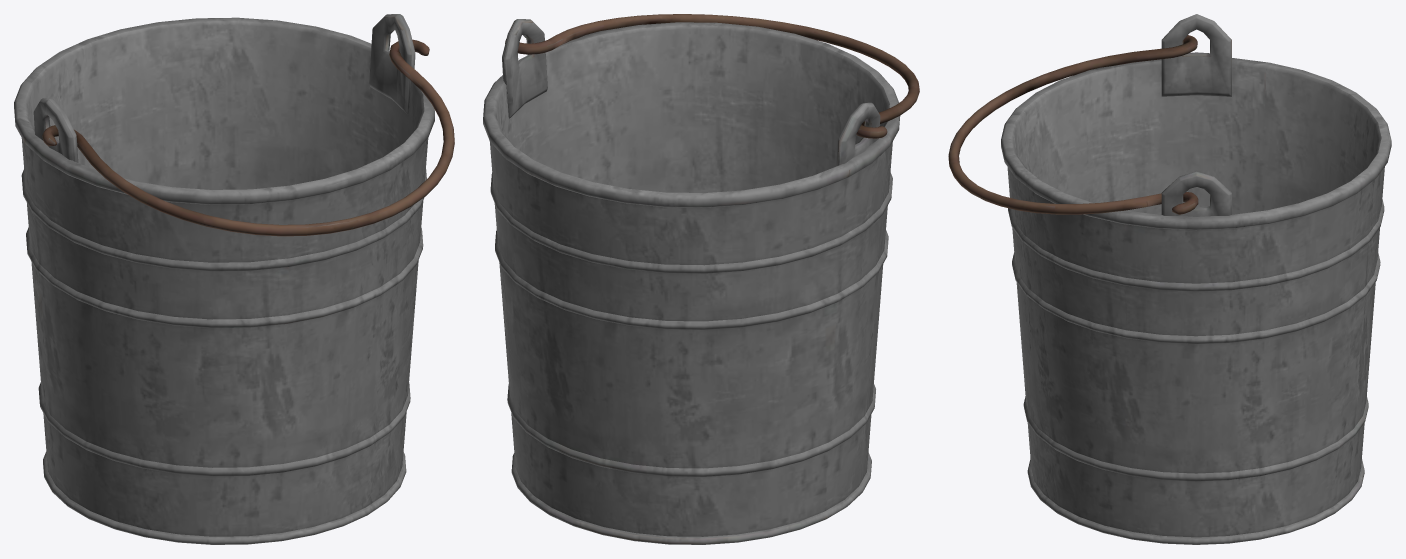
File: bucket_stylized.glb
3 renders of one model, left to right at view 1: azimuth 30°, elevation 25°; view 2: azimuth 150°, elevation 25°; view 3: azimuth 270°, elevation 25°, orthographic. The views are drawn at different scales.
Parts seen in each view (by area): view 1: Cylinder.017; view 2: Cylinder.017; view 3: Cylinder.017.
Boxes of the visible parts, x1,y1,x2,y2 form: Cylinder.017: (14, 14, 454, 544); Cylinder.017: (483, 14, 919, 544); Cylinder.017: (948, 14, 1391, 544).
Size of the model in its own units: 0.2443 by 0.2511 by 0.2643.
Materials: 1 (1 with a texture image).
